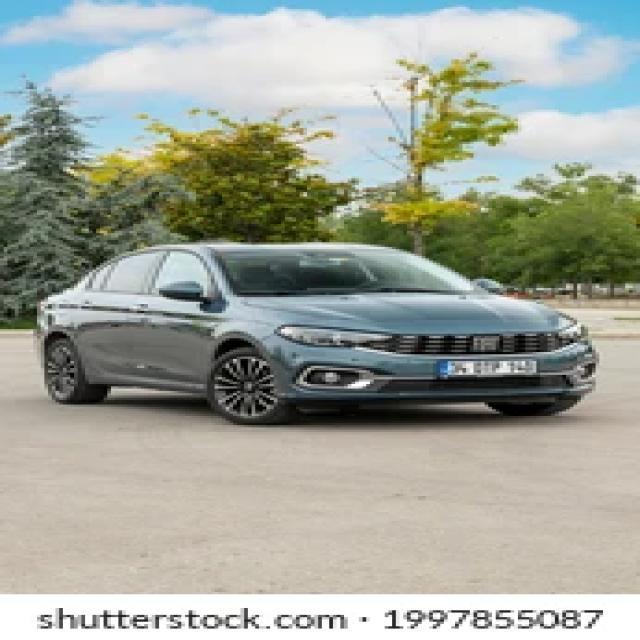fiat: (461, 328, 508, 360)
